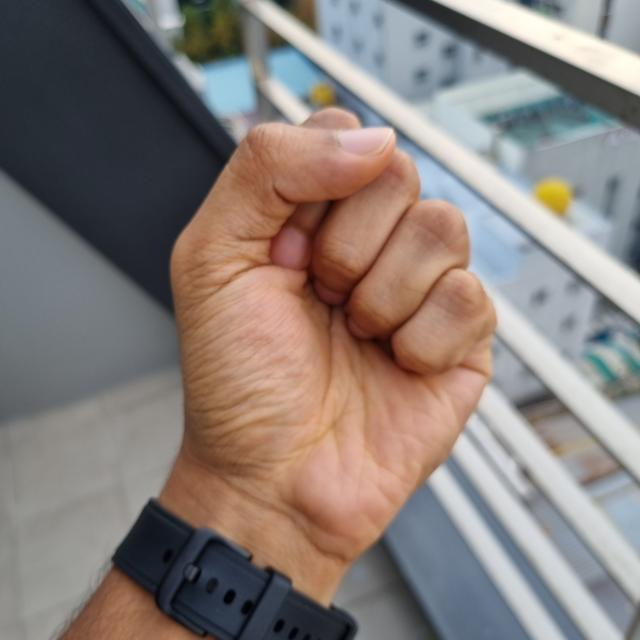Rock: (167, 114, 494, 562)
